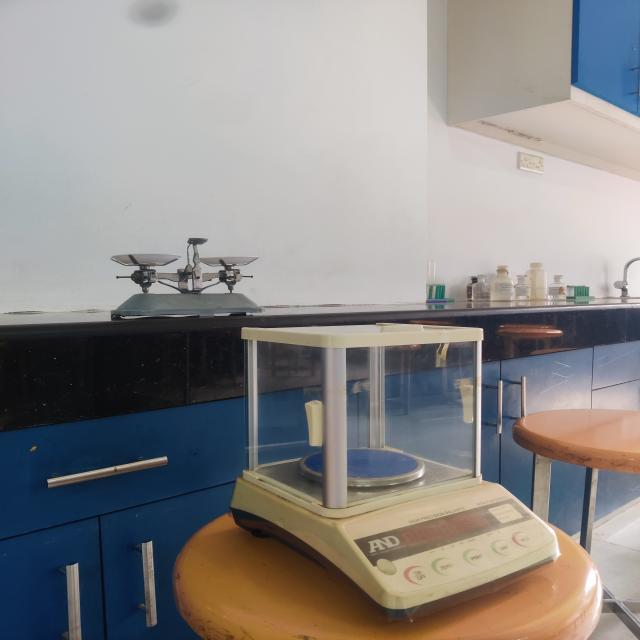Mechanical_Balance_Scale: (90, 218, 289, 325)
Precision_Weight_Scale: (213, 307, 577, 640)
